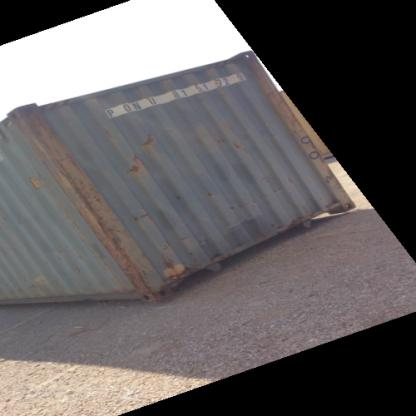Damage: (23, 113, 106, 212), (92, 218, 152, 297), (158, 234, 190, 284), (224, 126, 251, 159), (269, 169, 296, 197), (126, 146, 142, 179), (127, 201, 151, 222), (142, 130, 156, 149), (208, 187, 223, 200)
